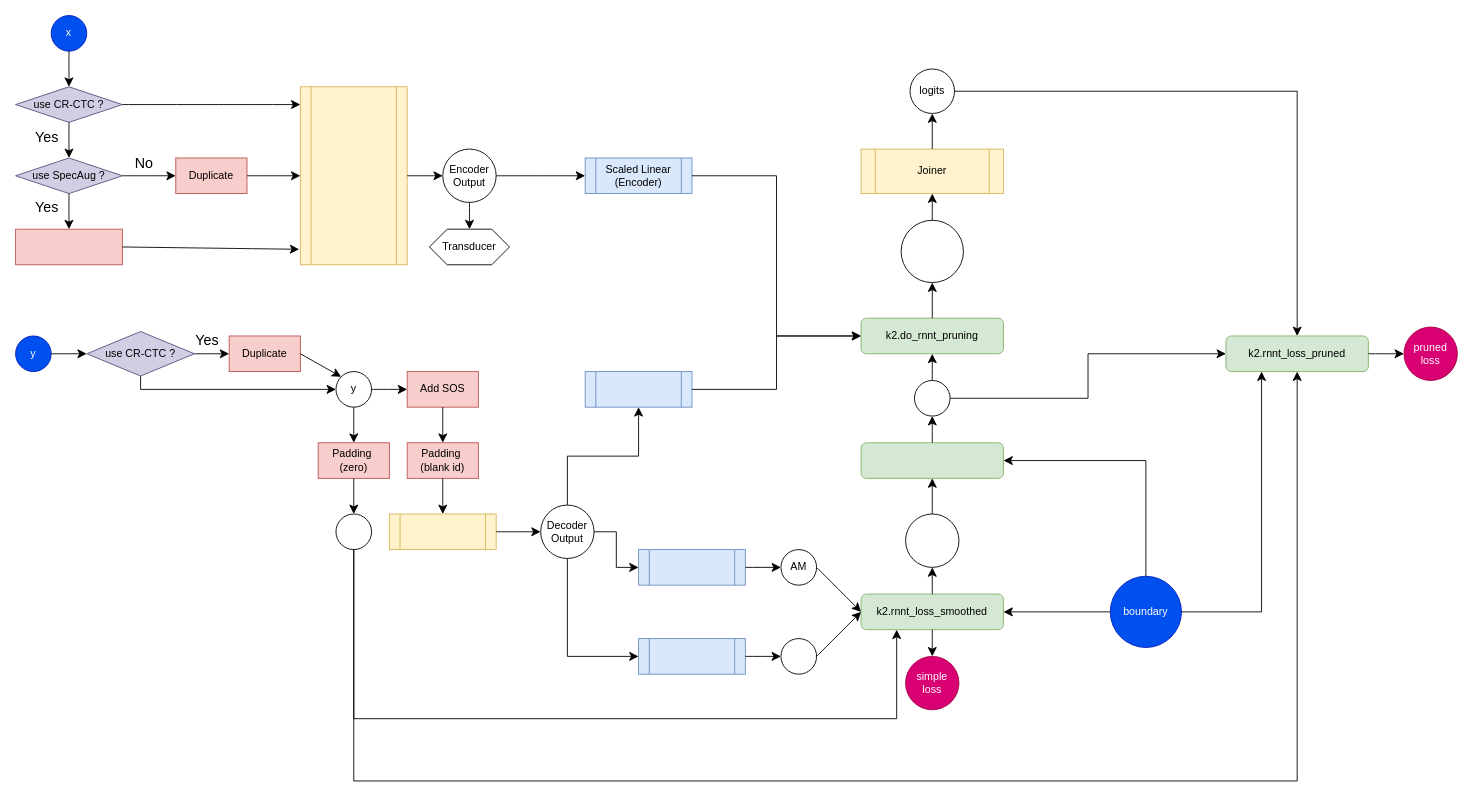
The diagram is 1473 pixels wide and 805 high, and some of its shapes have lost their labels. Here are the shapes that lost their labels. From the top down, the box of each, then its label:
(299, 86, 407, 265): Encoder
(15, 228, 122, 265): Time Warping
(900, 219, 963, 283): am_pruned, lm_pruned
(584, 371, 692, 407): Scaled Linear (Decoder)
(914, 380, 950, 416): ranges
(860, 442, 1003, 478): k2.get_rnnt_prune_ranges
(335, 513, 372, 550): y_pad
(388, 513, 496, 550): Decoder
(905, 513, 959, 567): px_grad, py_grad
(638, 549, 745, 585): Scaled Linear (AM)
(638, 638, 745, 674): Scaled Linear (LM)
(780, 638, 817, 674): LM
